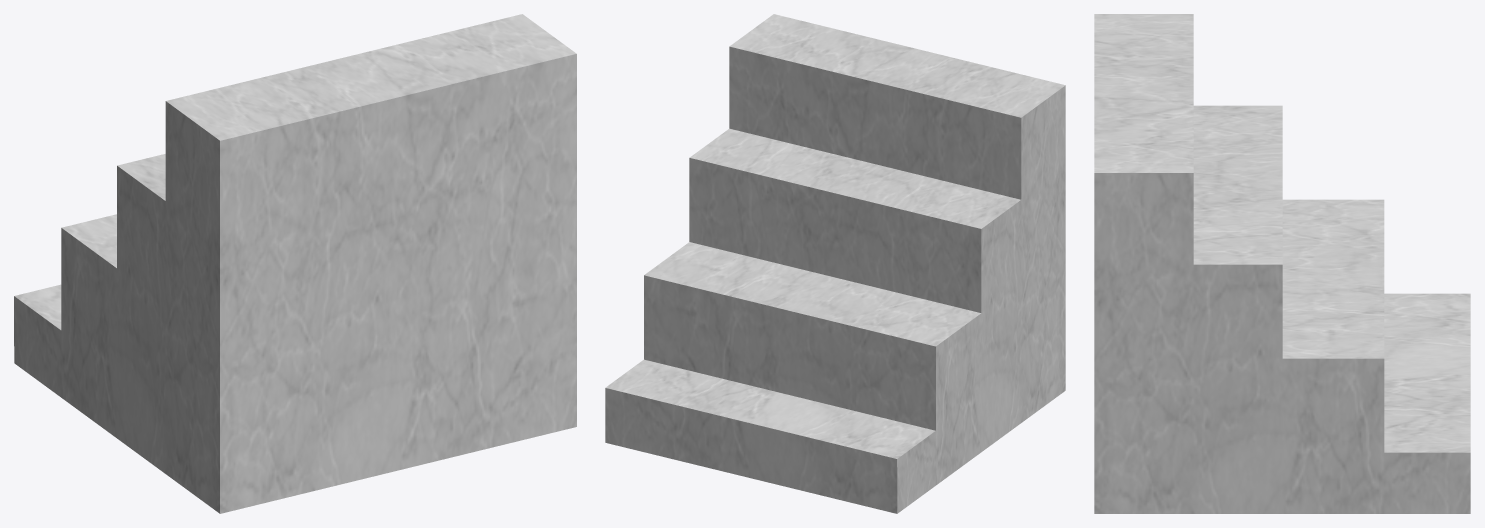
The model's file is POL0510019.fbx.
3 renders of one model, left to right at view 1: azimuth 30°, elevation 25°; view 2: azimuth 150°, elevation 25°; view 3: azimuth 270°, elevation 25°, orthographic. The views are drawn at different scales.
Parts seen in each view (by area): view 1: smPOL0510019; view 2: smPOL0510019; view 3: smPOL0510019.
Part boxes in pixels (<box>): smPOL0510019: <box>14,14,576,513</box>; smPOL0510019: <box>605,14,1065,513</box>; smPOL0510019: <box>1094,14,1470,513</box>.
Size of the model in its own units: 161 by 161 by 161.
1 material, 1 textured.
